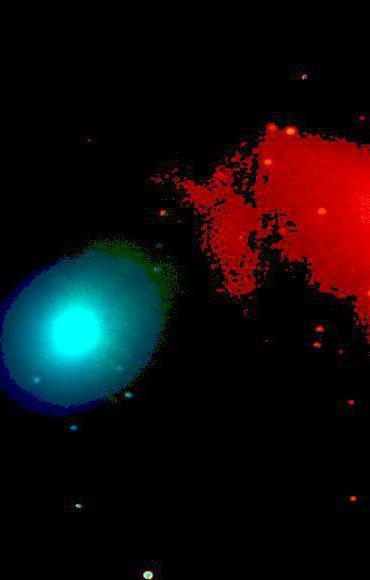star: (98, 324, 128, 354)
